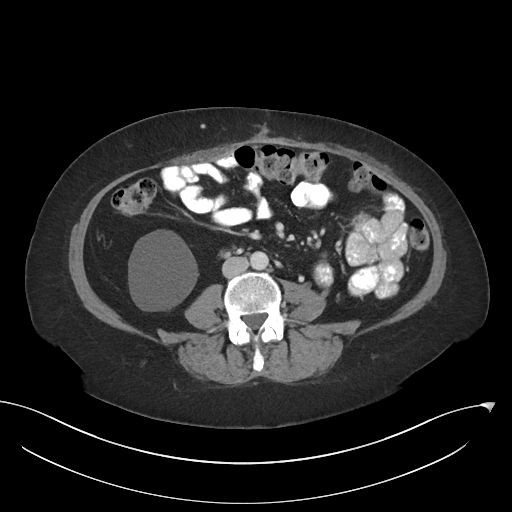Lesion: (122, 228, 200, 315)
